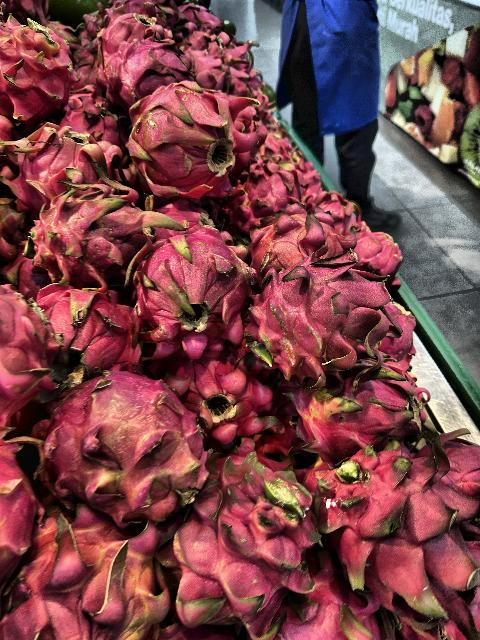buah-naga-belum-matang: (48, 372, 206, 514), (19, 488, 165, 640)
buah-naga-matang: (306, 428, 480, 602), (168, 439, 308, 626), (123, 216, 258, 356), (242, 261, 398, 381), (118, 74, 246, 198), (18, 178, 166, 280), (32, 276, 140, 378), (302, 368, 426, 456), (12, 115, 118, 205), (244, 197, 352, 269), (0, 286, 54, 424), (1, 17, 74, 114), (98, 28, 192, 94), (240, 161, 296, 227), (348, 220, 406, 278)
